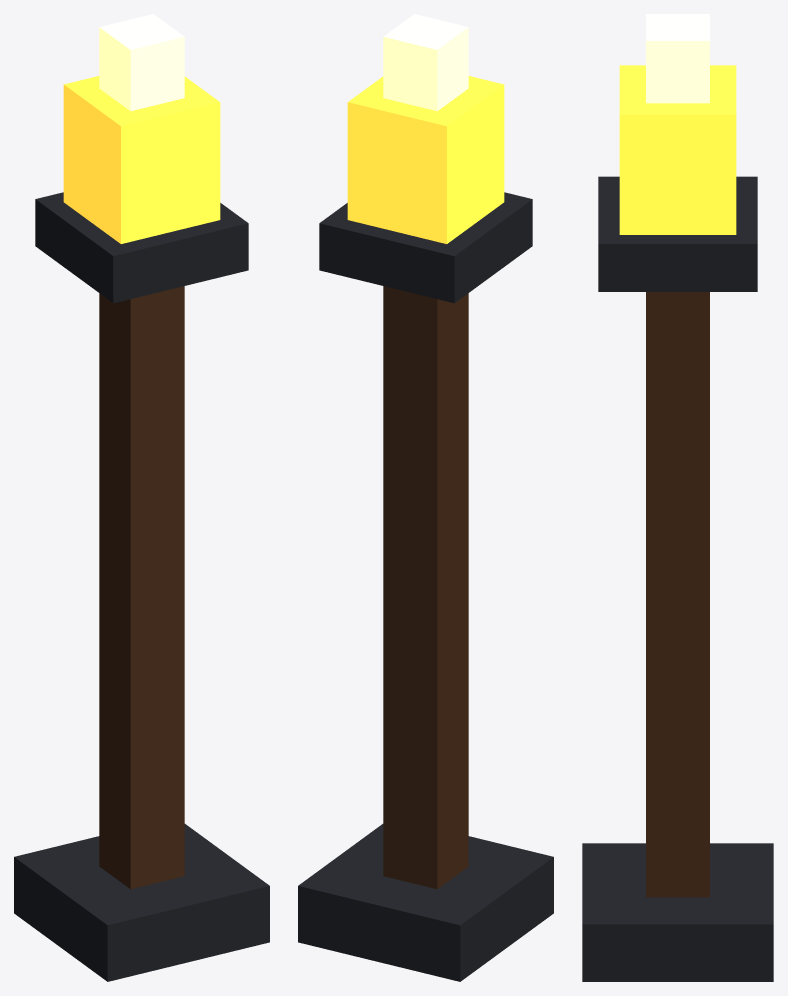
The model's file is dba-torch.glb.
3 views of the same model, side by side, from view 1: azimuth 30°, elevation 25°; view 2: azimuth 150°, elevation 25°; view 3: azimuth 270°, elevation 25° (orthographic). The views are drawn at different scales.
Parts seen in each view (by area): view 1: box-prop; view 2: box-prop; view 3: box-prop.
Boxes of the visible parts, x1,y1,x2,y2 form: box-prop: (14,14,269,981); box-prop: (298,14,553,981); box-prop: (582,14,773,981).
Bounding box in the file's own units: 0.36 × 1.9 × 0.36.
